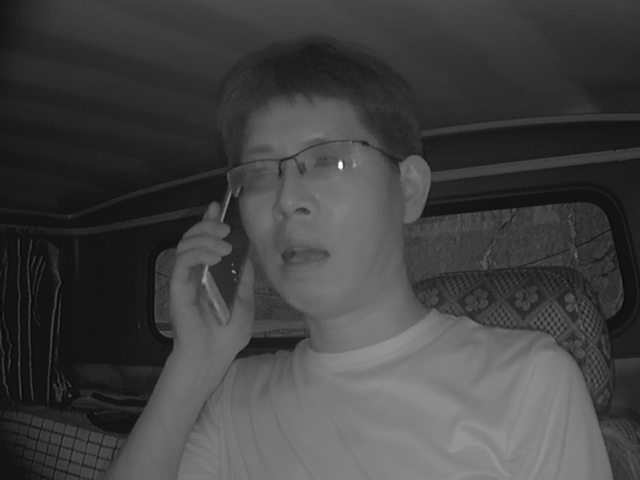hand: (162, 204, 261, 363)
